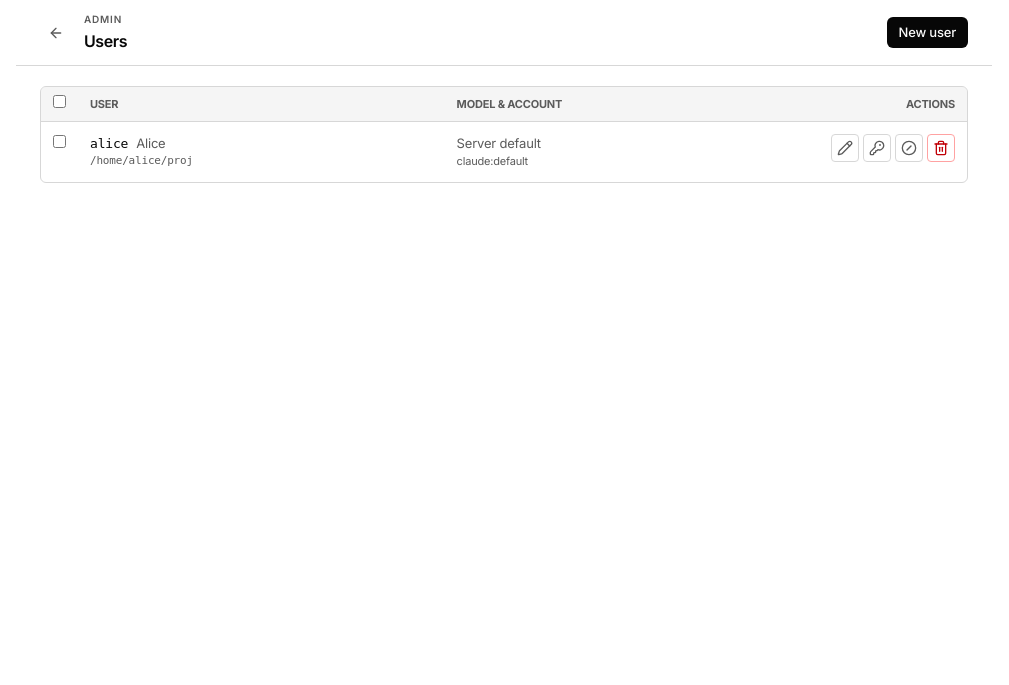
Test: AdminUsers section composition › toggles the create form from the header action
Click the button "New user": (927, 33) [886,17,968,48]
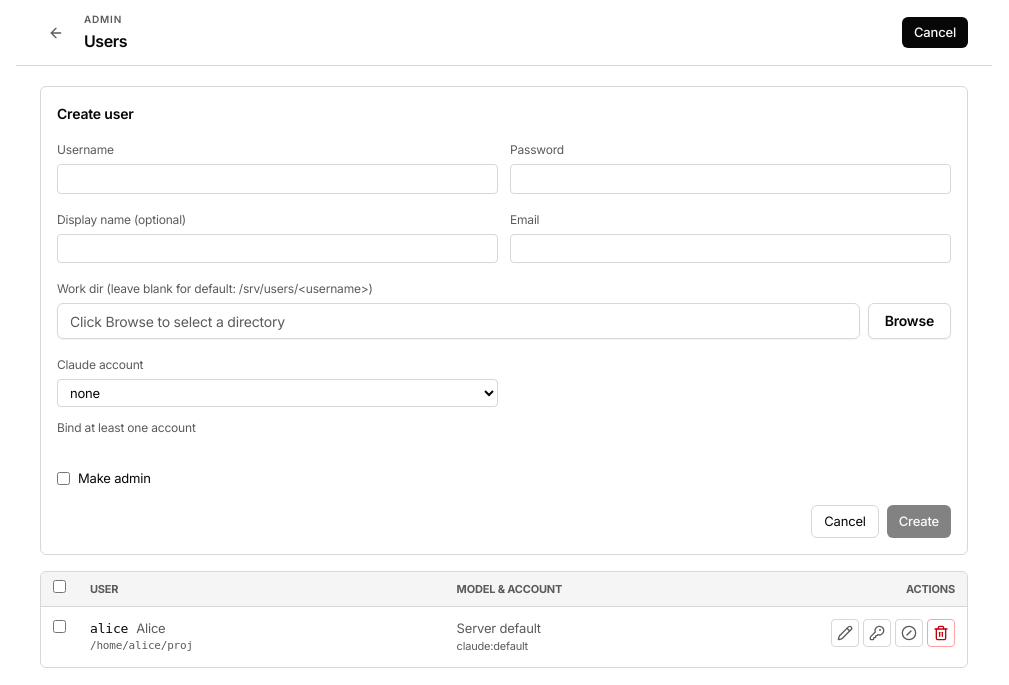
Result: the element with test id "create-user-form" is shown
